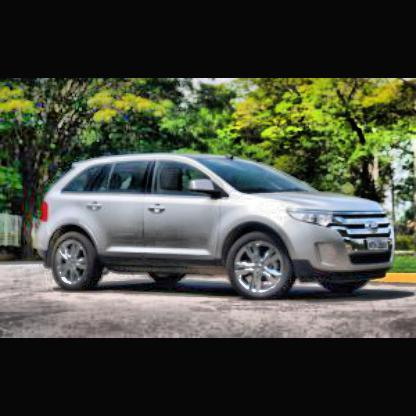Ford Edge SUV 2012: (36, 153, 397, 304)
